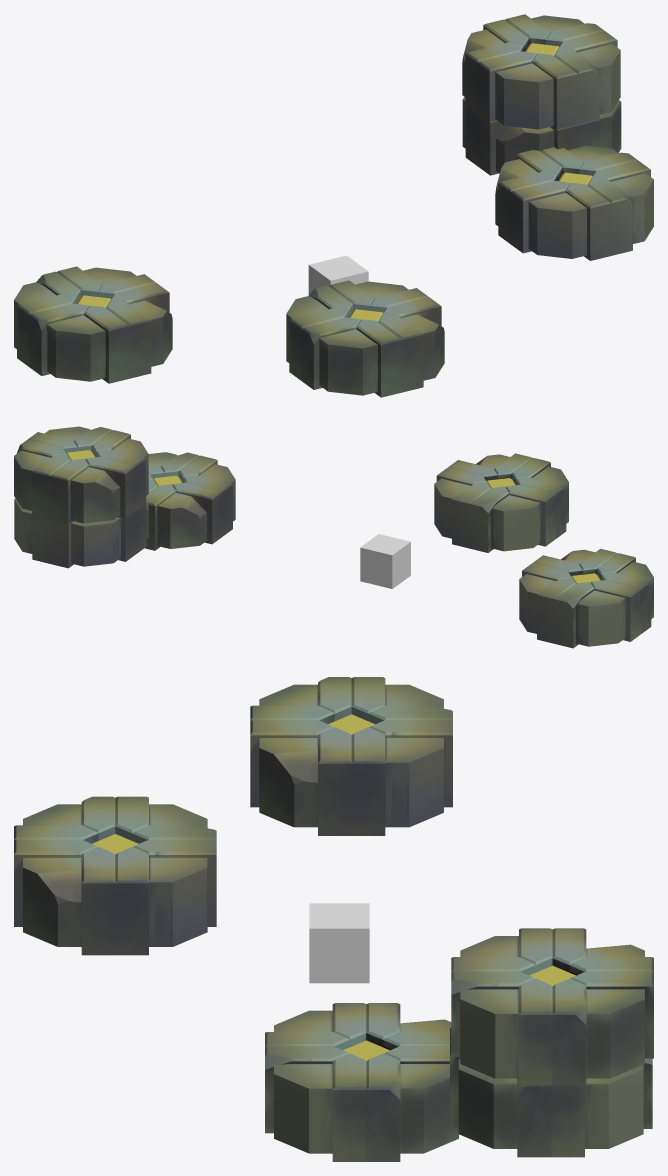
The model's file is battlescence-4-floor008.fbx.
3 renders of one model, top to bottom at view 1: azimuth 30°, elevation 25°; view 2: azimuth 150°, elevation 25°; view 3: azimuth 270°, elevation 25°, orthographic. The views are drawn at different scales.
Visible parts, largest first — view 1: Plane.041, Plane.043, Plane.038, Plane.037, Plane.035, battlescence-4-floor008; view 2: Plane.037, Plane.041, Plane.043, Plane.038, Plane.035, battlescence-4-floor008; view 3: Plane.043, Plane.041, Plane.037, Plane.038, Plane.035, battlescence-4-floor008.
Part boxes in pixels (x1,y1,x2,y2): Plane.041: (286,280,444,397); Plane.043: (14,266,172,383); Plane.038: (495,146,653,260); Plane.037: (462,14,620,129); Plane.035: (462,97,621,175); battlescence-4-floor008: (308,255,368,295); Plane.037: (14,426,148,524); Plane.041: (434,453,568,552); Plane.043: (519,548,653,648); Plane.038: (145,452,235,550); Plane.035: (14,496,148,568); battlescence-4-floor008: (360,534,410,588); Plane.043: (250,677,452,835); Plane.041: (14,796,216,955); Plane.037: (451,928,653,1086); Plane.038: (265,1003,458,1161); Plane.035: (450,1028,652,1157); battlescence-4-floor008: (309,903,369,983).
Bounding box in the file's own units: 2116 × 427 × 1316.
